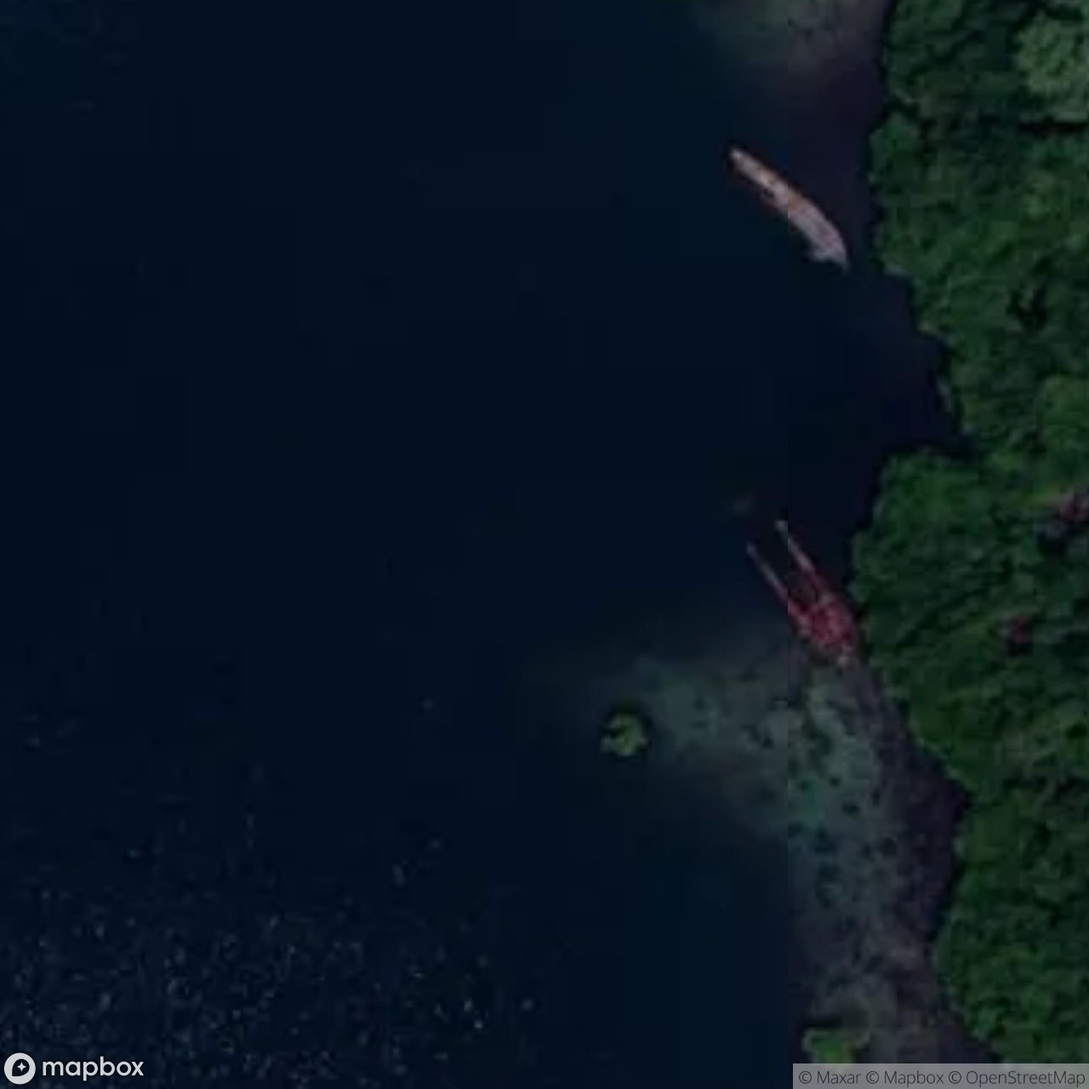Wreck: (690, 492, 898, 687)
